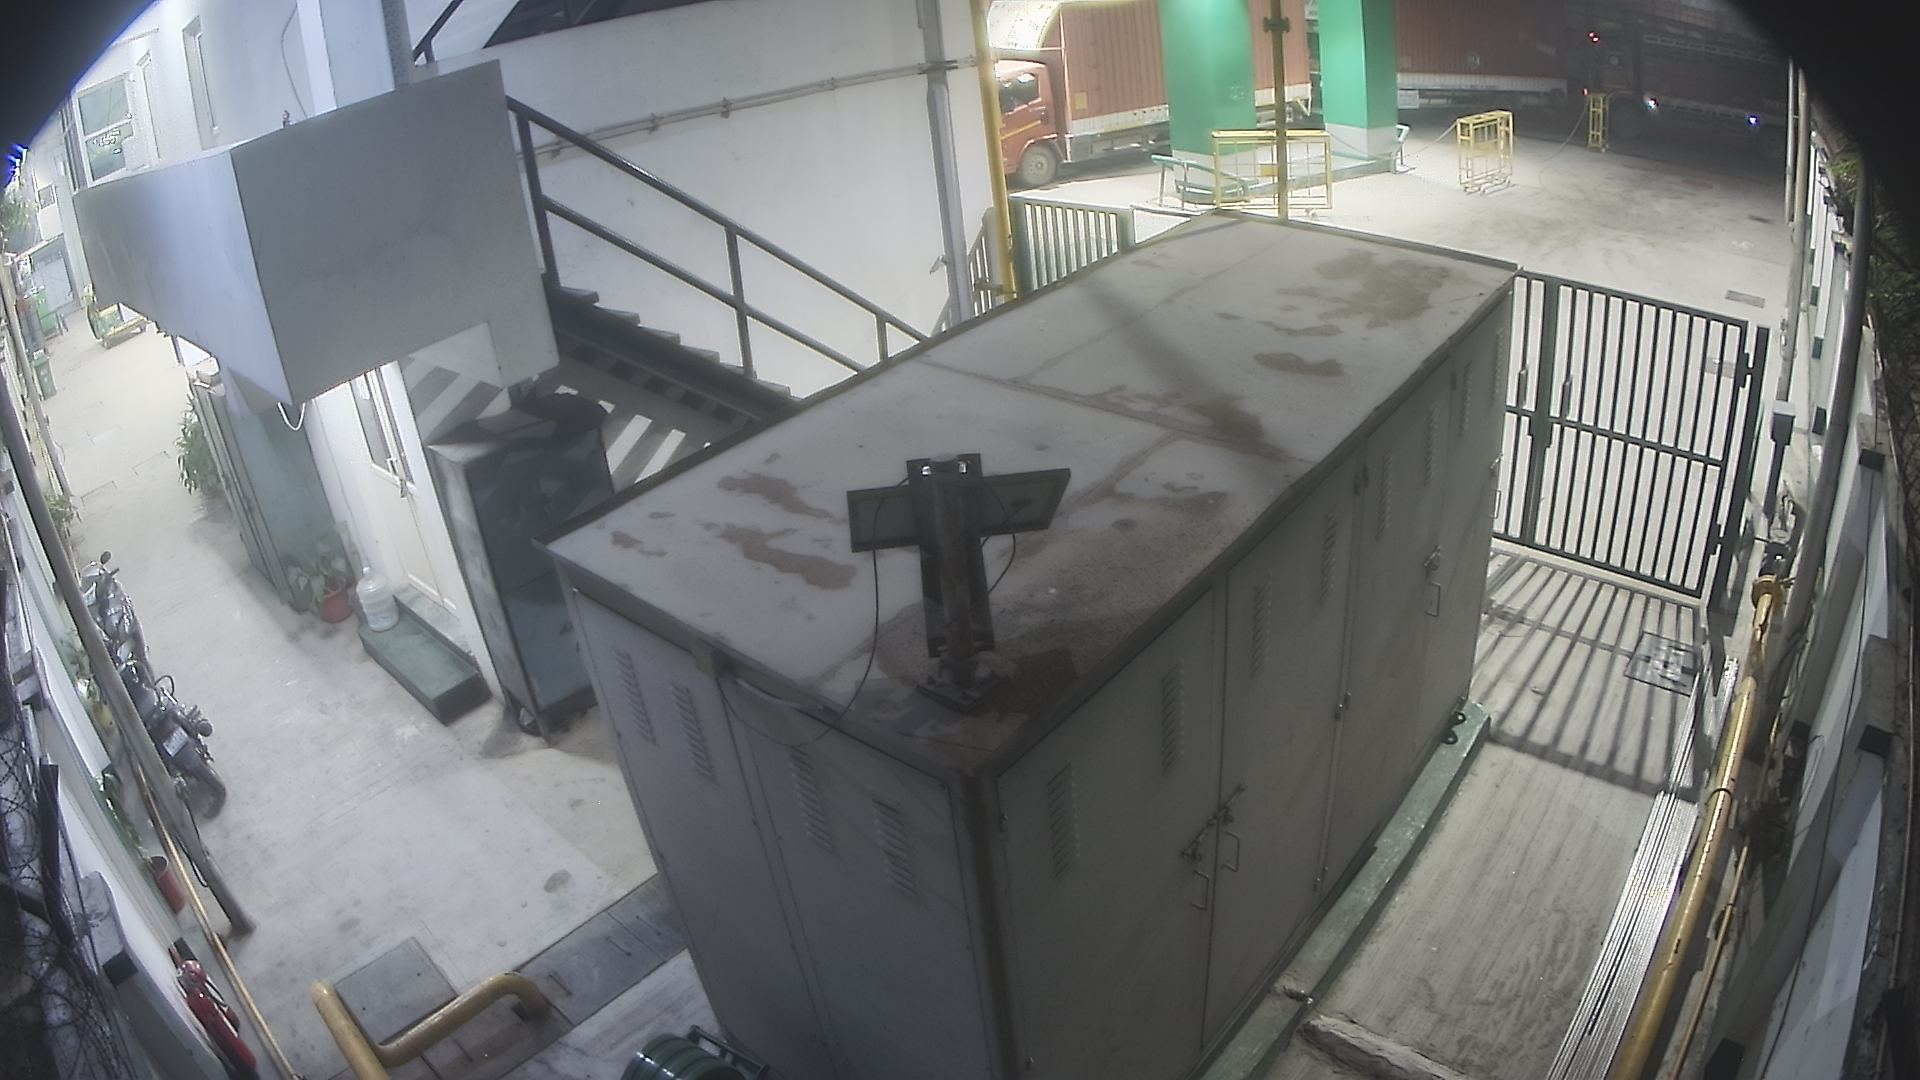Auto: (74, 260, 175, 365)
Bike: (91, 600, 256, 833), (22, 528, 161, 733)
HMV: (971, 0, 1334, 201), (1282, 0, 1601, 139), (1556, 0, 1815, 163)
